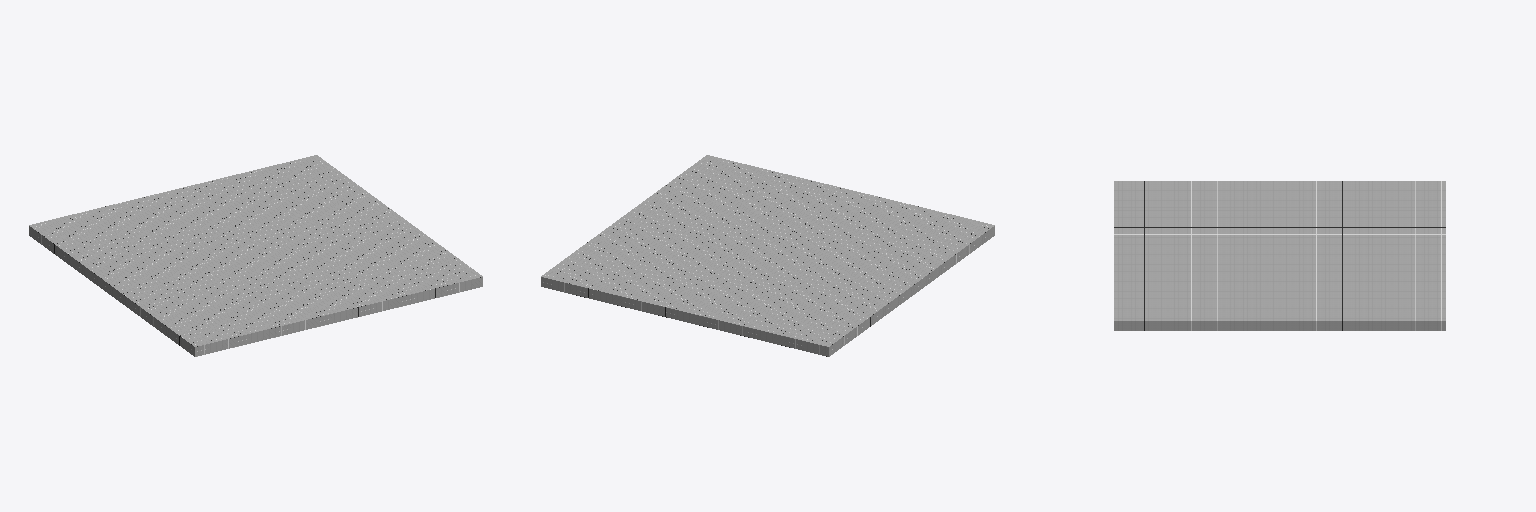
3 views of the same model, side by side, from view 1: azimuth 30°, elevation 25°; view 2: azimuth 150°, elevation 25°; view 3: azimuth 270°, elevation 25° (orthographic).
Parts seen in each view (by area): view 1: Cube; view 2: Cube; view 3: Cube.
Part boxes in pixels (x1,y1,x2,y2): Cube: (29,155,482,356); Cube: (541,155,994,356); Cube: (1114,181,1445,330).
Size of the model in its own units: 120 by 4 by 120.
1 materials, 1 textured.